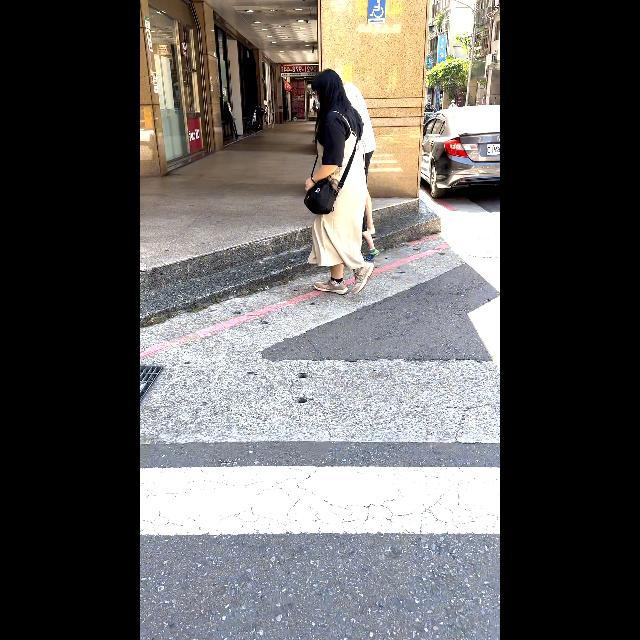sidewalk: (140, 442, 500, 605)
